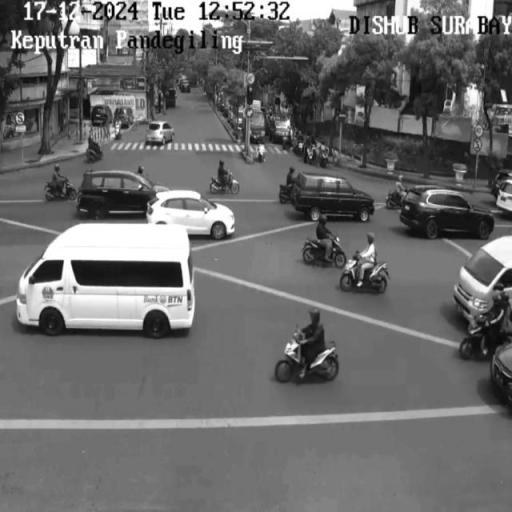bus: (18, 224, 194, 334), (456, 236, 512, 318)
car: (399, 188, 494, 238), (147, 190, 239, 239), (79, 172, 166, 217), (292, 174, 374, 217), (492, 342, 512, 412), (146, 121, 175, 145)
motorcycle: (273, 340, 342, 386), (458, 317, 512, 361), (336, 252, 392, 292), (301, 236, 346, 268), (207, 175, 241, 198), (47, 184, 78, 203), (279, 185, 292, 207)
